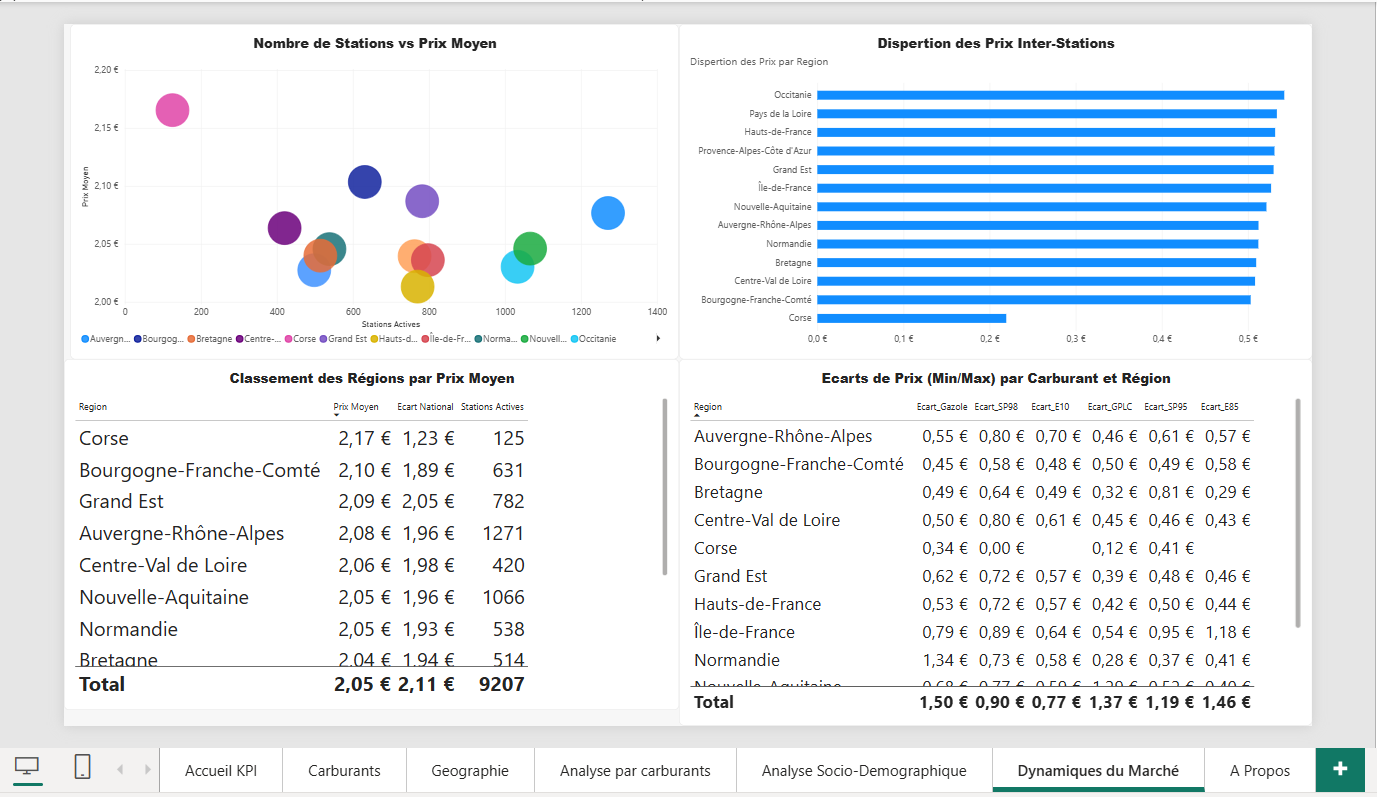

Layout of this report page (visuals, bound fields, positions):
{"tool":"powerbi","page":{"name":"Dynamiques du Marché","canvas":[1920,1080],"ordinal":5},"visuals":[{"type":"scatterChart","title":"Nombre de Stations vs Prix Moyen","fields":{"Series":["Dim_Station.Region"],"Size":["CountNonNull(INSEE.Population_2026)"],"X":["Table.Stations Actives"],"Y":["Table.Prix Moyen National"]},"box":[10,0,936,516],"z":0},{"type":"tableEx","title":"Classement des Régions par Prix Moyen","fields":{"Values":["Dim_Station.Region","Table.Prix Moyen National","Table.Ecart National","Table.Stations Actives"]},"box":[0,516,946,540],"z":1000},{"type":"clusteredBarChart","title":"Dispertion des Prix Inter-Stations","fields":{"Category":["Dim_Station.Region"],"Y":["Volatilite.Volatilite"]},"box":[946,0,974,516],"z":2000},{"type":"tableEx","title":"Ecarts de Prix (Min/Max) par Carburant et Région","fields":{"Values":["INSEE.Region","Mesures.Ecart_Gazole","Mesures.Ecart_SP98","Mesures.Ecart_E10","Mesures.Ecart_GPLC","Mesures.Ecart_SP95","Mesures.Ecart_E85"]},"box":[946,516,974,564],"z":3000}]}

Visuals, with their boxes on the page's 1920x1080 design canvas (x1, y1, x2, y2). These are canvas units, not pixel positions in the 1377x797 screenshot, which may show the page scaled, cropped or inside an application window:
"Nombre de Stations vs Prix Moyen" scatterChart: <region>10, 0, 946, 516</region>
"Classement des Régions par Prix Moyen" tableEx: <region>0, 516, 946, 1056</region>
"Dispertion des Prix Inter-Stations" clusteredBarChart: <region>946, 0, 1920, 516</region>
"Ecarts de Prix (Min/Max) par Carburant et Région" tableEx: <region>946, 516, 1920, 1080</region>
